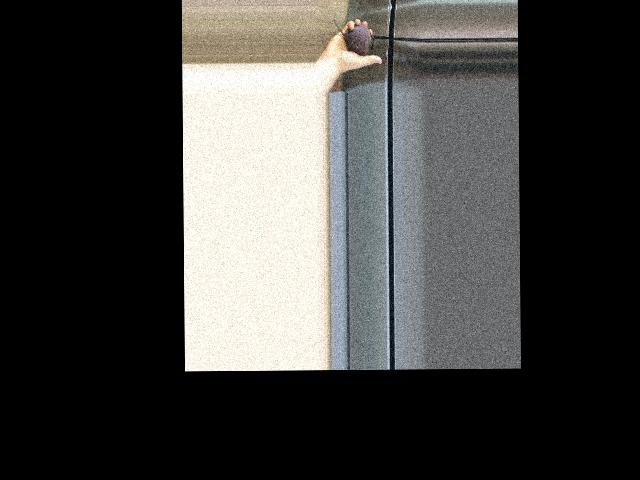beet: (334, 10, 374, 55)
